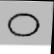no answer: (6, 11, 42, 38)
